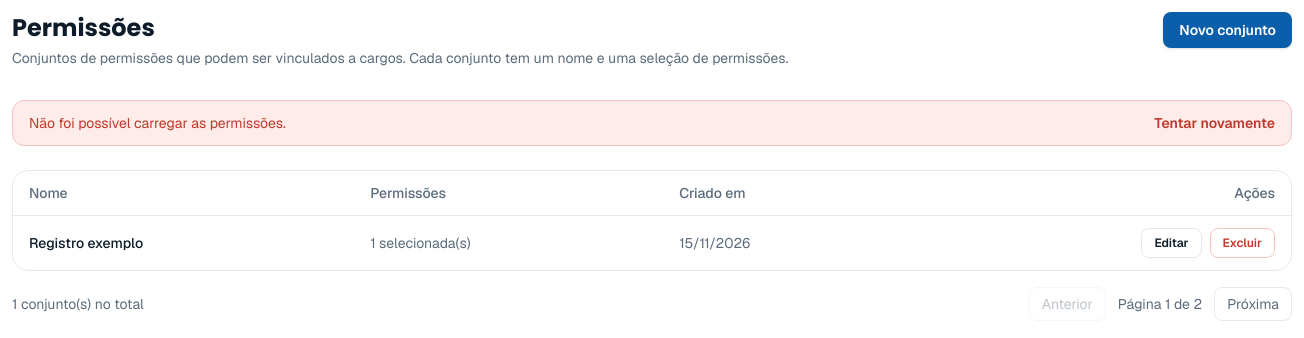
Test: independent catalog errors › keeps a catalog failure visible after paginating and retries both requests
Check: the text "Registro exemplo" is shown, box [13,216,354,270]
Check: the text "Não foi possível carregar as permissões." is shown, box [29,113,286,133]
Step 1. Click the button "Próxima" → {"x": 1253, "y": 304}, box [1214,287,1292,321]
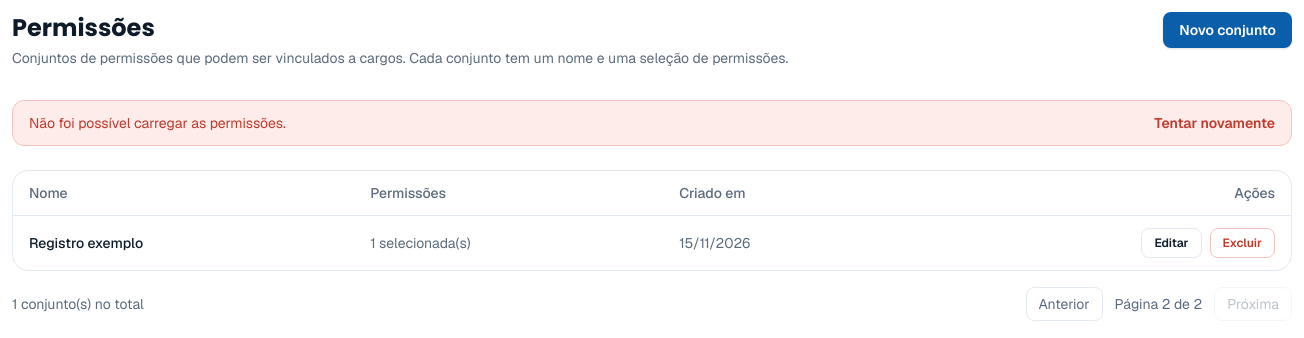
Check: the text "Registro exemplo" is shown, box [13,216,354,270]
Check: the text "Não foi possível carregar as permissões." is shown, box [29,113,286,133]
Step 2. Click the button "Tentar novamente" → {"x": 1215, "y": 123}, box [1154,113,1275,133]
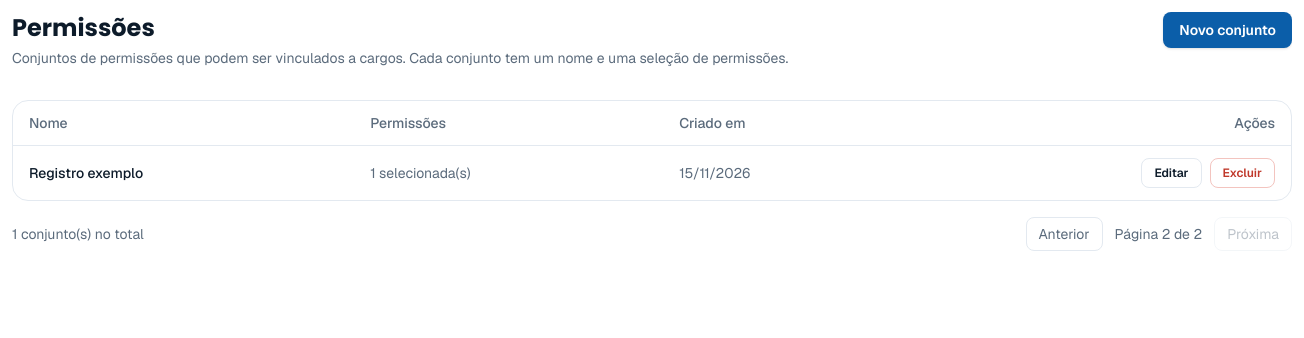
Check: the text "Registro exemplo" is shown, box [13,146,354,200]
Check: the text "Não foi possível carregar as permissões." is gone
